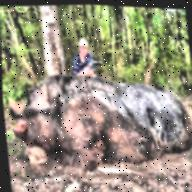boar: (5, 61, 192, 182)
